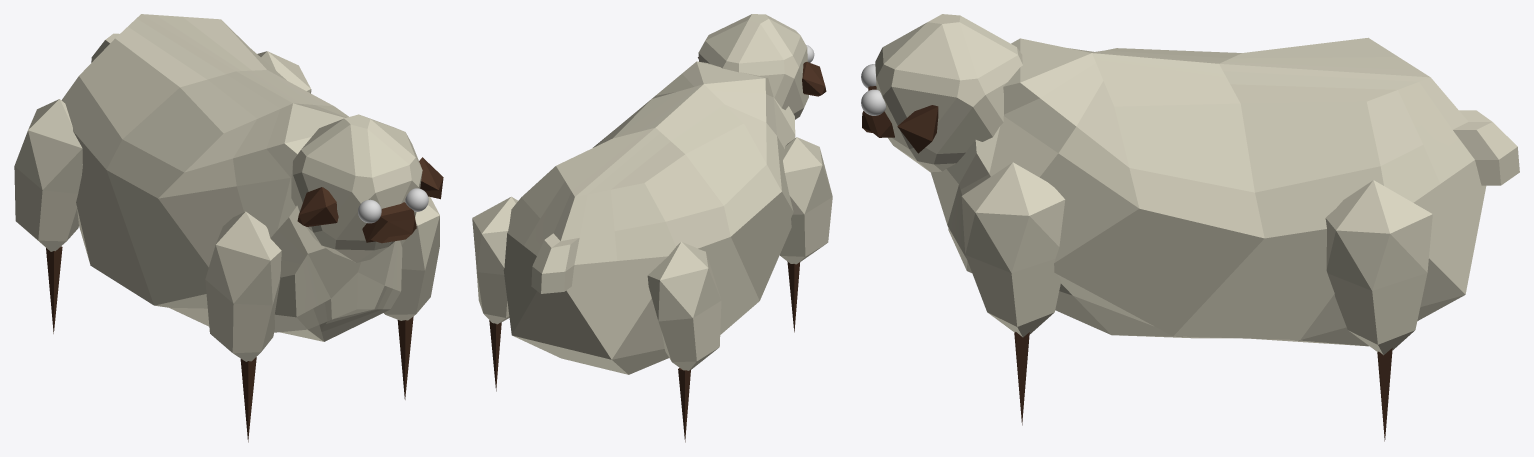
File: flossy.fbx
The picture shows the model from 3 angles, left to right: view 1: azimuth 30°, elevation 25°; view 2: azimuth 150°, elevation 25°; view 3: azimuth 270°, elevation 25°; orthographic projection. The views are drawn at different scales.
Visible parts, largest first — view 1: Body, Head, RightFrontLeg, RightBackLeg, LeftFrontLeg, Mule, RightEar, LeftBackLeg, Cone.003, Cone.001, Cone, LeftEar (+2 smaller); view 2: Body, RightBackLeg, Head, RightFrontLeg, LeftBackLeg, RightEar, Cone.003, Cone.001, Cone.002; view 3: Body, Head, LeftBackLeg, LeftFrontLeg, LeftEar, Cone, Cone.002, Mule.
Part boxes in pixels (bbox=[...]): Body: bbox=[61, 14, 402, 341]; Head: bbox=[291, 114, 422, 262]; RightFrontLeg: bbox=[205, 211, 281, 361]; RightBackLeg: bbox=[14, 99, 82, 251]; LeftFrontLeg: bbox=[384, 196, 439, 320]; Mule: bbox=[362, 202, 416, 243]; RightEar: bbox=[297, 187, 338, 226]; LeftBackLeg: bbox=[257, 51, 311, 93]; Cone.003: bbox=[46, 246, 62, 333]; Cone.001: bbox=[240, 357, 256, 442]; Cone: bbox=[397, 316, 413, 399]; LeftEar: bbox=[419, 157, 443, 199]; Body: bbox=[503, 61, 795, 374]; RightBackLeg: bbox=[647, 242, 721, 370]; Head: bbox=[698, 14, 808, 119]; RightFrontLeg: bbox=[780, 137, 832, 264]; LeftBackLeg: bbox=[472, 196, 517, 324]; RightEar: bbox=[802, 62, 826, 96]; Cone.003: bbox=[678, 368, 690, 442]; Cone.001: bbox=[787, 261, 800, 332]; Cone.002: bbox=[489, 320, 501, 391]; Body: bbox=[931, 37, 1519, 346]; Head: bbox=[875, 14, 1022, 172]; LeftBackLeg: bbox=[1325, 180, 1432, 355]; LeftFrontLeg: bbox=[961, 162, 1065, 337]; LeftEar: bbox=[897, 105, 938, 153]; Cone: bbox=[1014, 332, 1029, 425]; Cone.002: bbox=[1377, 348, 1392, 441]; Mule: bbox=[862, 86, 894, 137].
Bounding box in the file's own units: 2.19 × 2.47 × 3.99.
